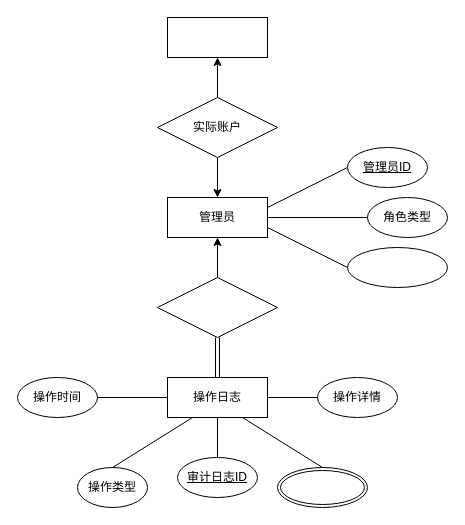
Image size: 465x525. Some labels were removed from this diagram. The centre of each missing label's shape, as x and y in pixels:
操作目标: the point at 322,487
用户: the point at 217,37
管理员操作: the point at 217,307
负责商品分类: the point at 397,267
